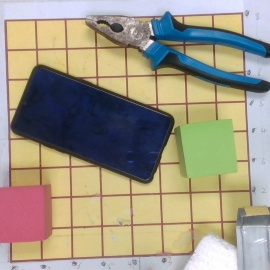phone: (10, 63, 175, 186)
